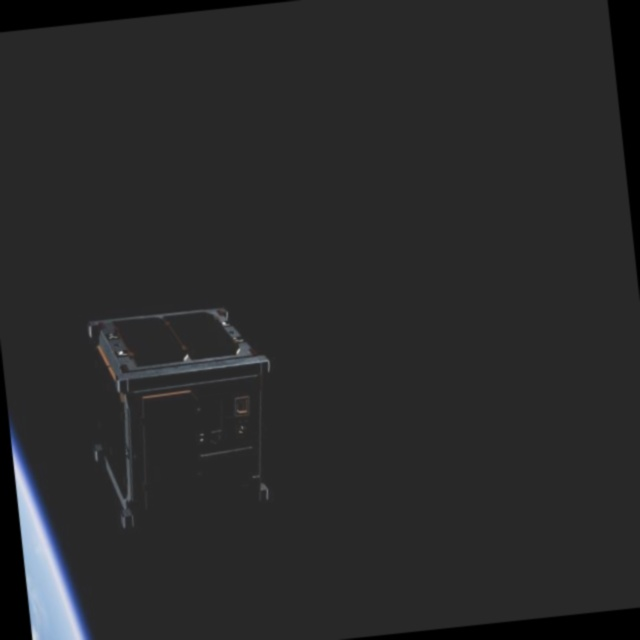medium_debris: (64, 290, 285, 540)
